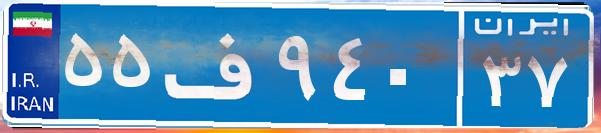0: (385, 28, 445, 110)
3: (475, 38, 525, 113)
4: (330, 28, 385, 110)
5: (57, 26, 110, 107), (110, 28, 158, 105)
7: (525, 38, 570, 115)
9: (273, 28, 330, 110)
ف: (158, 15, 273, 115)
